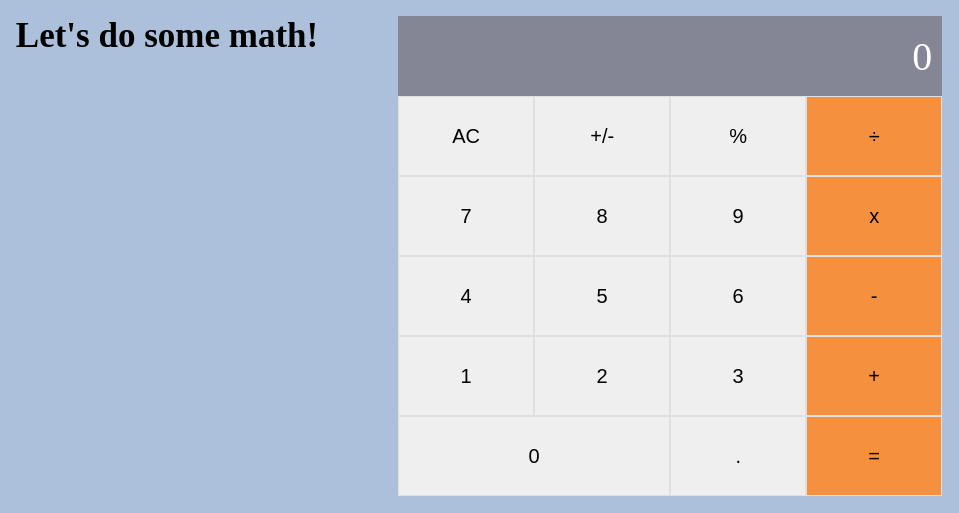
Reder Home Page › When key 5 is click, 5 is display in the Calculator
Step 1. Click the button "5" → (602, 296), box [534,256,670,336]
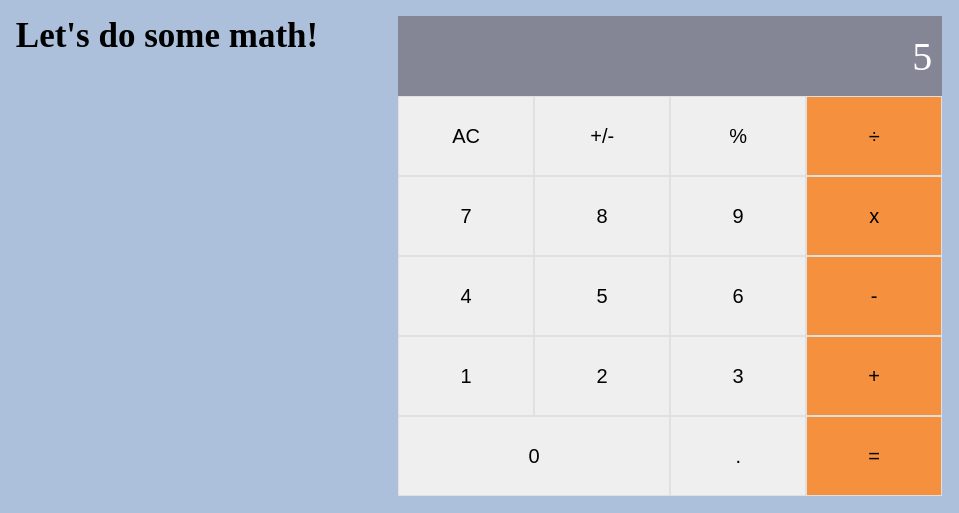
expect the text with id "output" reads "5": met, box [912,34,932,78]
